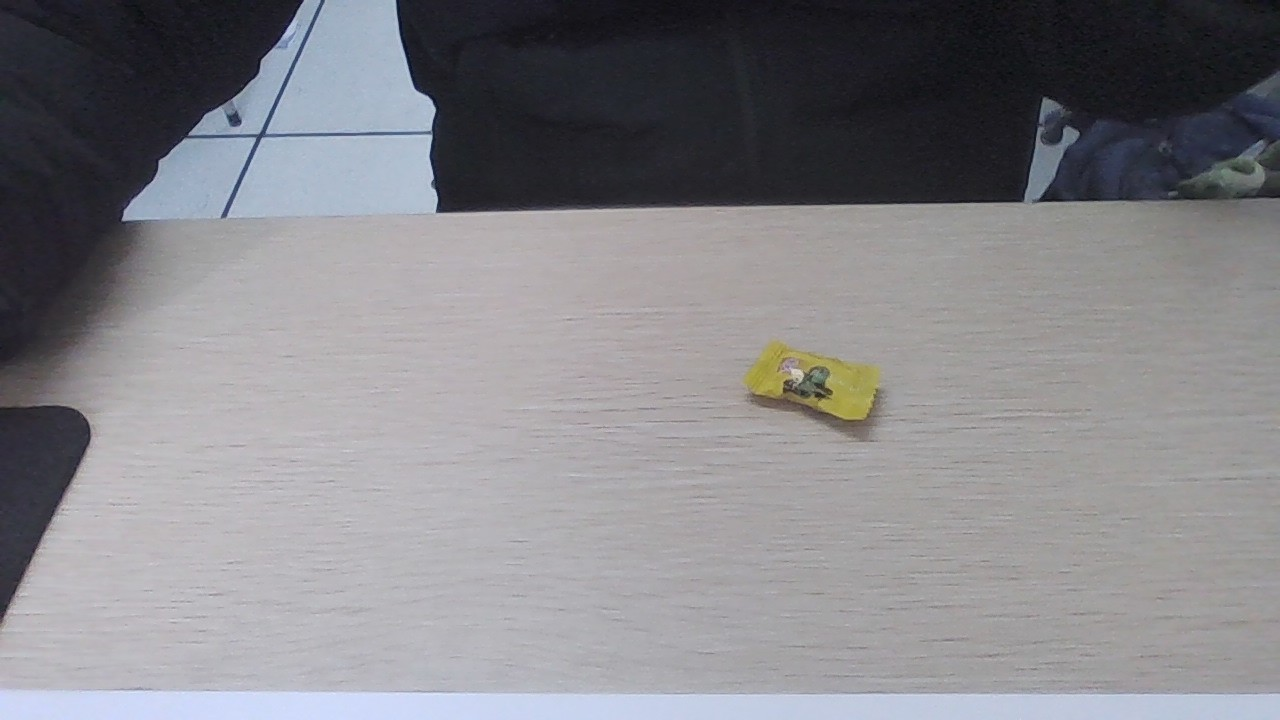CY-sugar: (751, 348, 864, 417)
